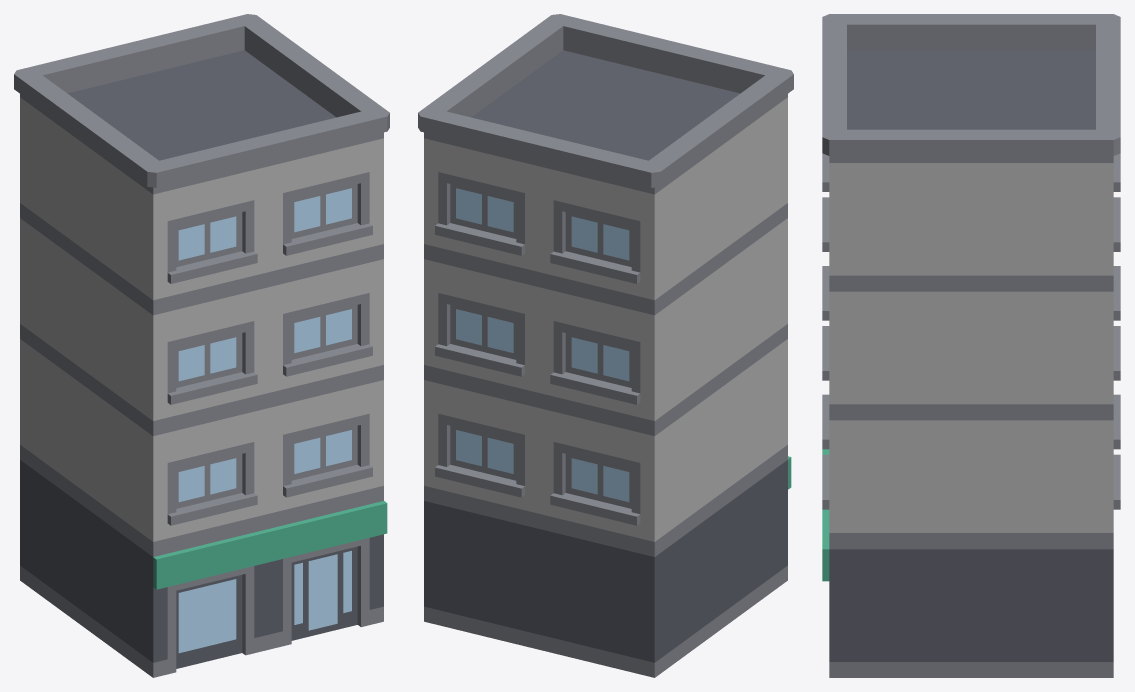
Rendered from Large Building B.glb.
The picture shows the model from 3 angles, left to right: view 1: azimuth 30°, elevation 25°; view 2: azimuth 150°, elevation 25°; view 3: azimuth 270°, elevation 25°; orthographic projection. The views are drawn at different scales.
Parts seen in each view (by area): view 1: large_buildingB; view 2: large_buildingB; view 3: large_buildingB.
Part boxes in pixels (left/top/right/bottom): large_buildingB: left=14, top=14, right=389, bottom=677; large_buildingB: left=418, top=14, right=793, bottom=677; large_buildingB: left=822, top=14, right=1120, bottom=677.
Bounding box in the file's own units: 0.84 × 1.68 × 0.84.
